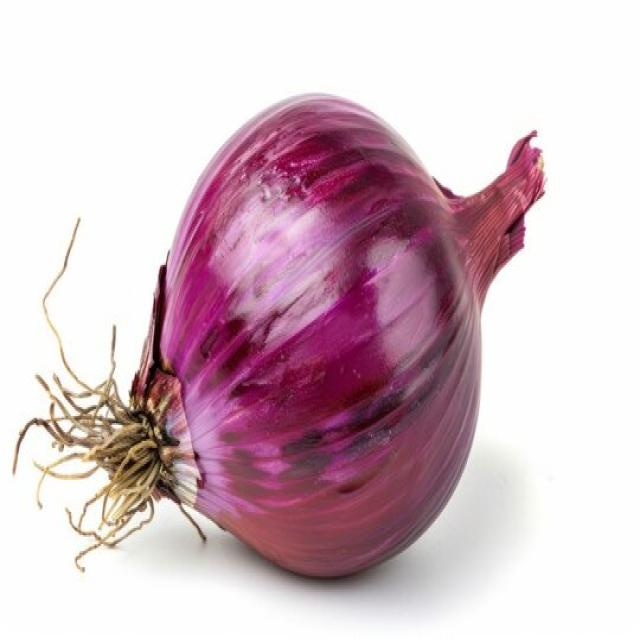Onion: (11, 89, 546, 581)
